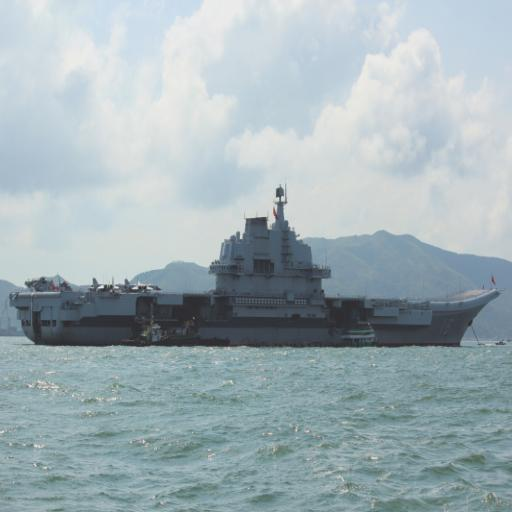Portanaves: (11, 174, 507, 346)
